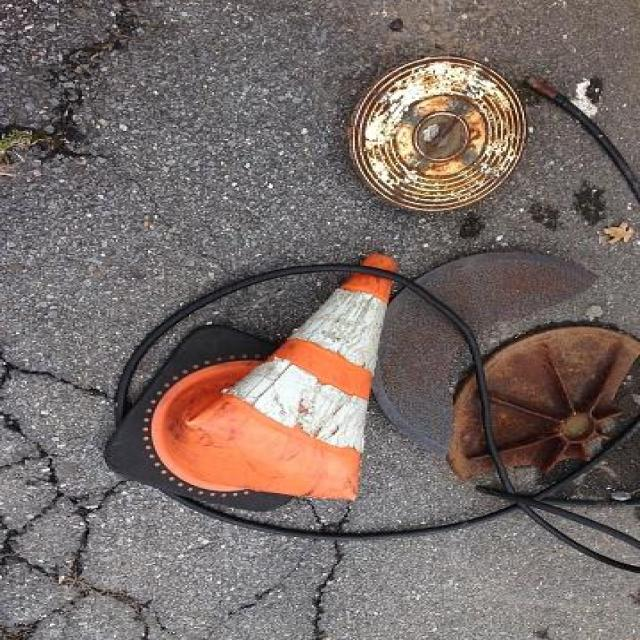Cone: (103, 254, 394, 540)
